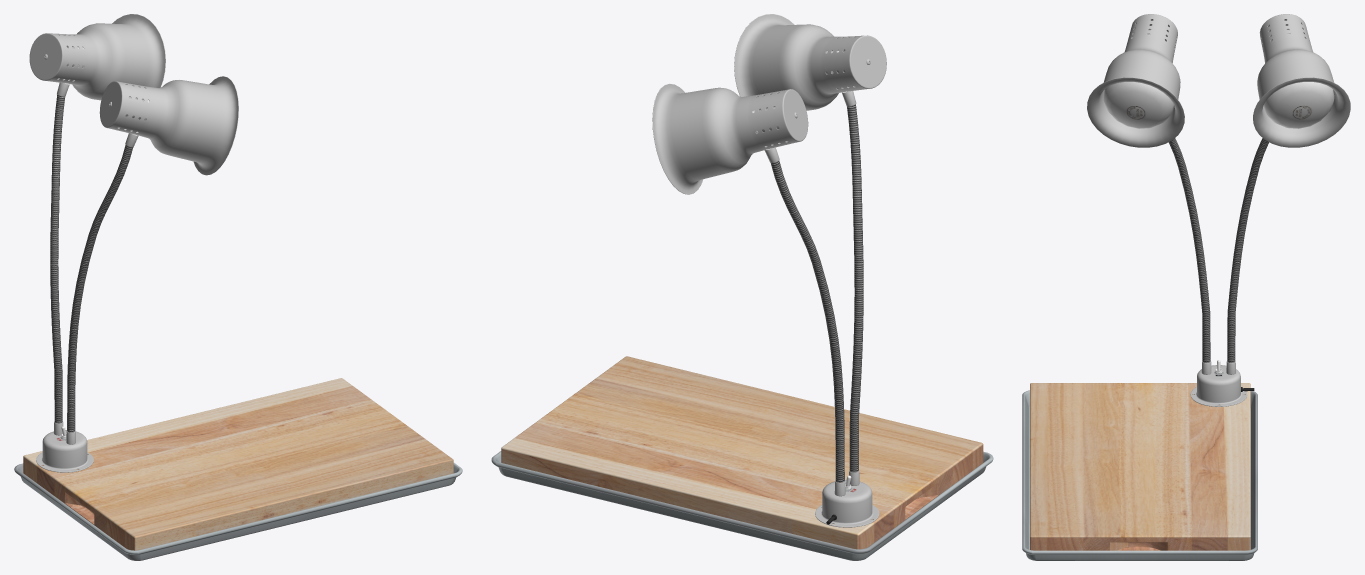
3 renders of one model, left to right at view 1: azimuth 30°, elevation 25°; view 2: azimuth 150°, elevation 25°; view 3: azimuth 270°, elevation 25°, orthographic. The views are drawn at different scales.
Parts seen in each view (by area): view 1: SKU_164WCB1624, 177HLDBL24BK1, BUNQRTR:BUNQRTR; view 2: SKU_164WCB1624, 177HLDBL24BK1, BUNQRTR:BUNQRTR; view 3: SKU_164WCB1624, 177HLDBL24BK1, BUNQRTR:BUNQRTR.
Part boxes in pixels (x1,y1,x2,y2): SKU_164WCB1624: (23,378,453,550); 177HLDBL24BK1: (29,14,238,472); BUNQRTR:BUNQRTR: (14,463,462,560); SKU_164WCB1624: (501,356,983,549); 177HLDBL24BK1: (652,14,886,527); BUNQRTR:BUNQRTR: (491,451,993,560); SKU_164WCB1624: (1030,383,1250,550); 177HLDBL24BK1: (1087,14,1350,406); BUNQRTR:BUNQRTR: (1022,390,1257,560).
Bounding box in the file's own units: 66.2 × 78.93 × 56.65.
3 materials, 3 textured.
